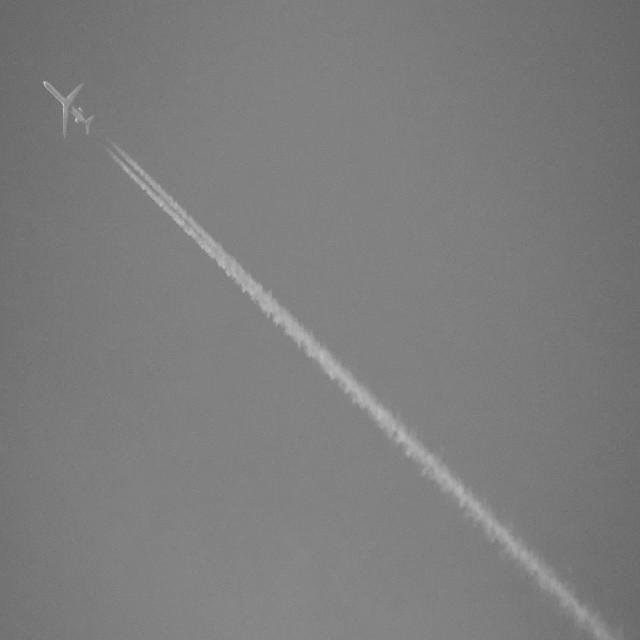aeroplane: (40, 74, 100, 142)
